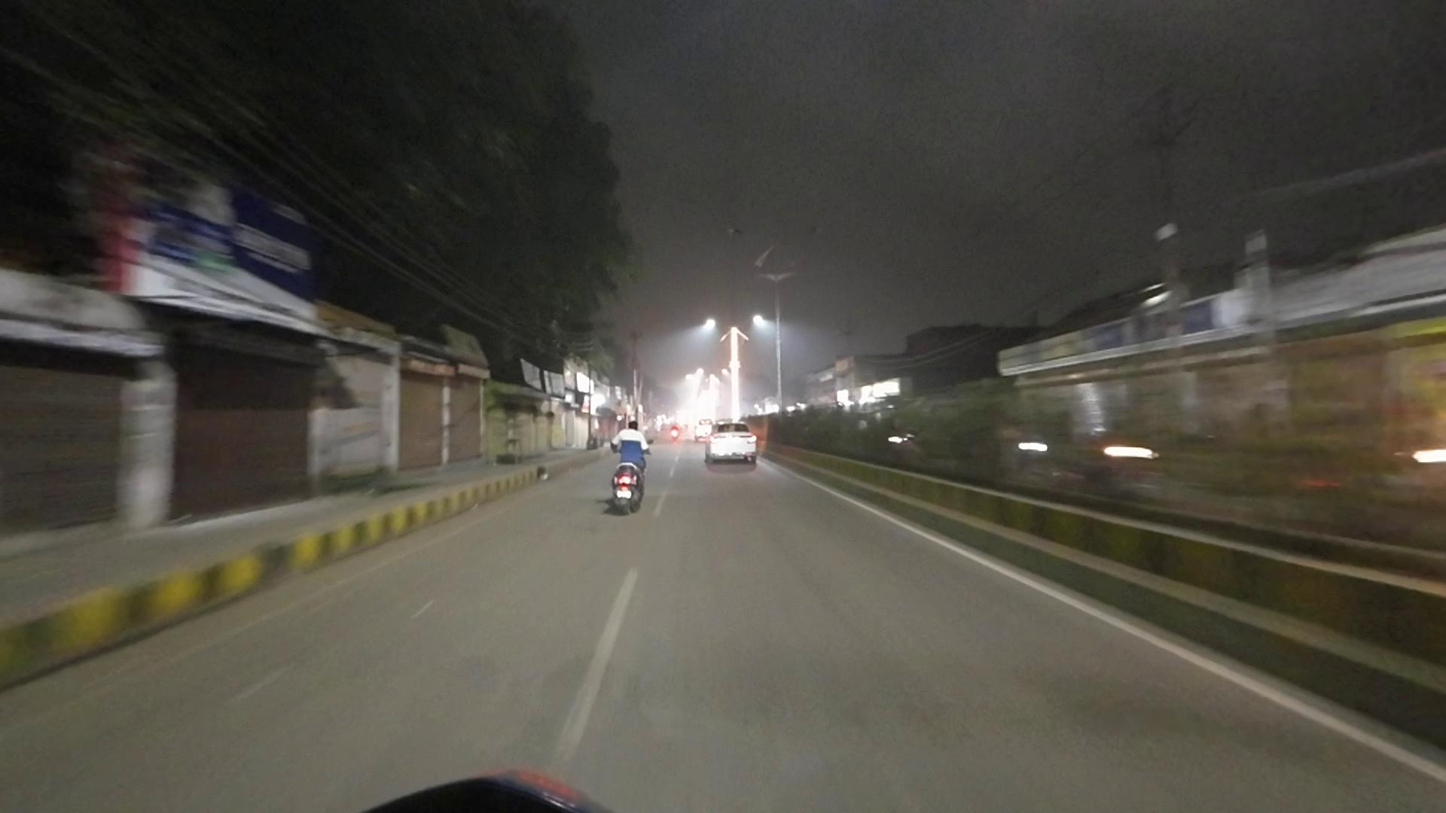streetlight: (725, 222, 770, 242), (783, 223, 826, 242)
